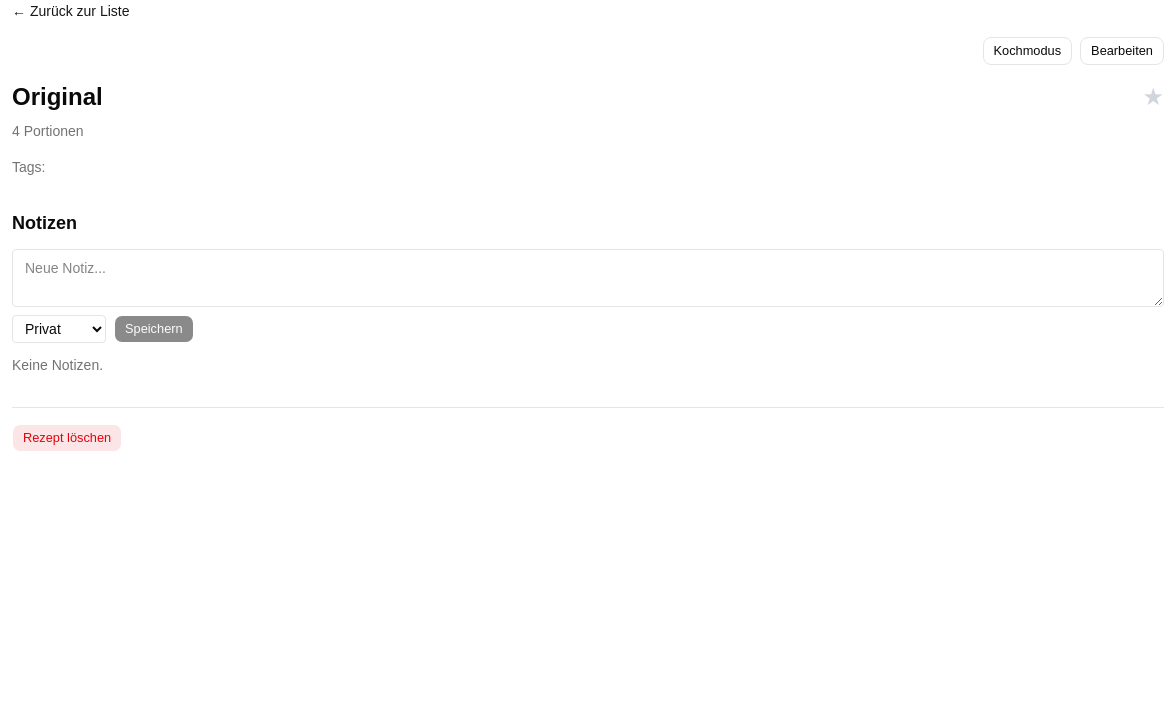
Test: RecipeDetailPage inline edit mode › Abbrechen discards local edits and returns to read mode showing the original state
The image size is (1176, 715).
Click the button "Bearbeiten" at (1122, 51), box left=1080, top=37, right=1164, bottom=65
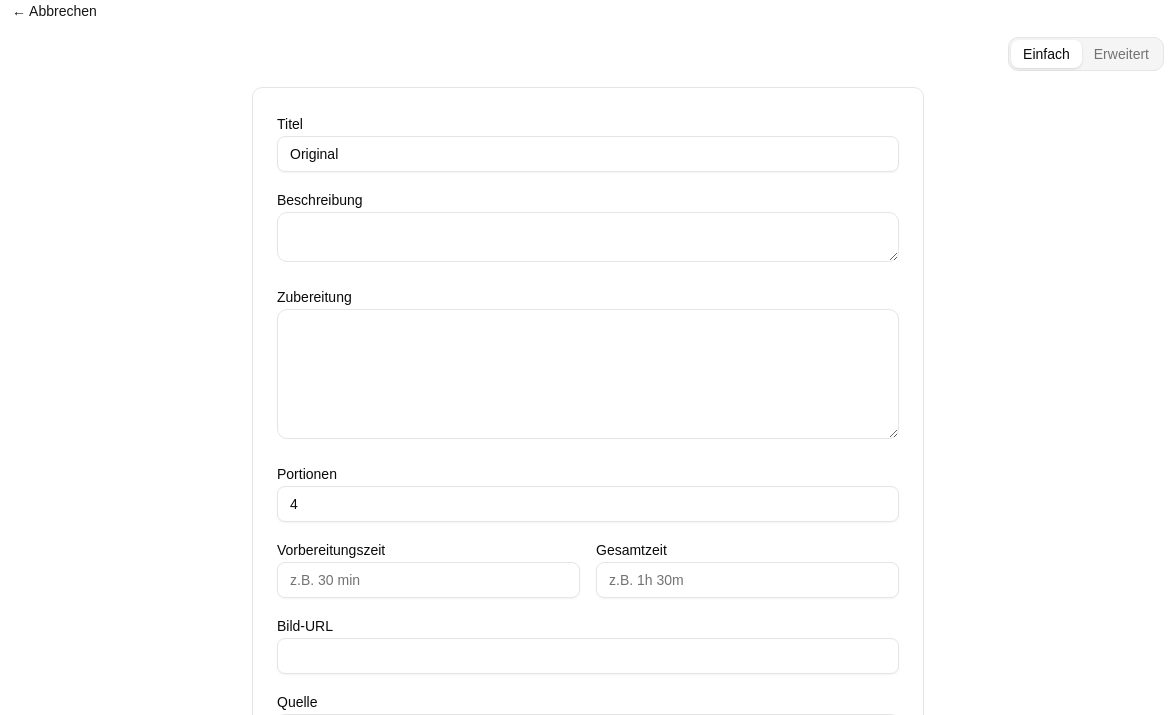
Replace the text in the field labelled "Titel" with "Verworfen" at (588, 154), box left=277, top=136, right=899, bottom=172
(page scrolled)
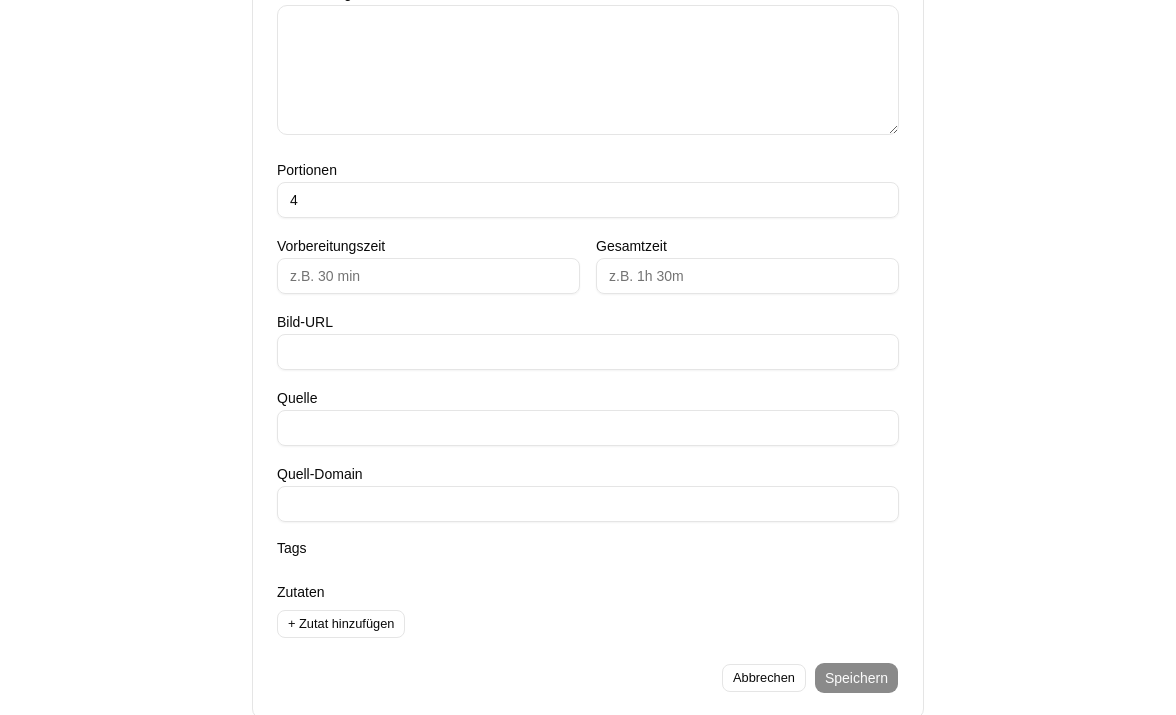
Click the button "Abbrechen" at (764, 678), box left=722, top=664, right=806, bottom=692
(page scrolled)
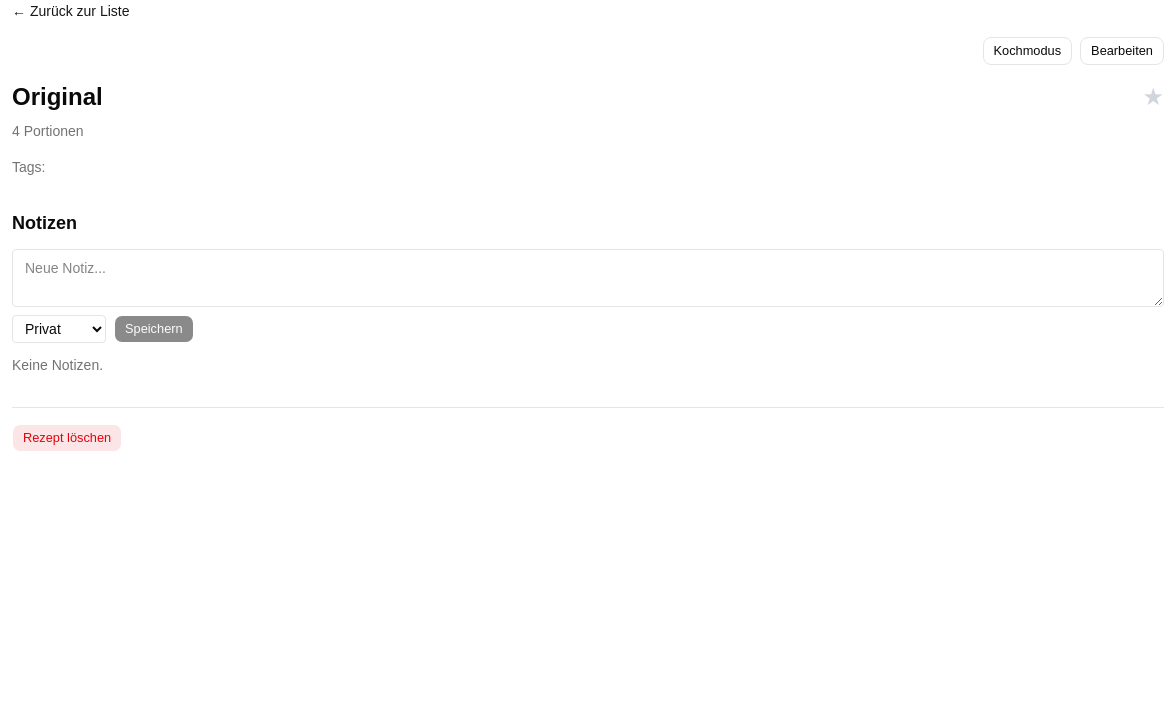
Result: the heading "Original" is shown at left=12, top=81, right=103, bottom=113
Result: the button "Bearbeiten" is shown at left=1080, top=37, right=1164, bottom=65
